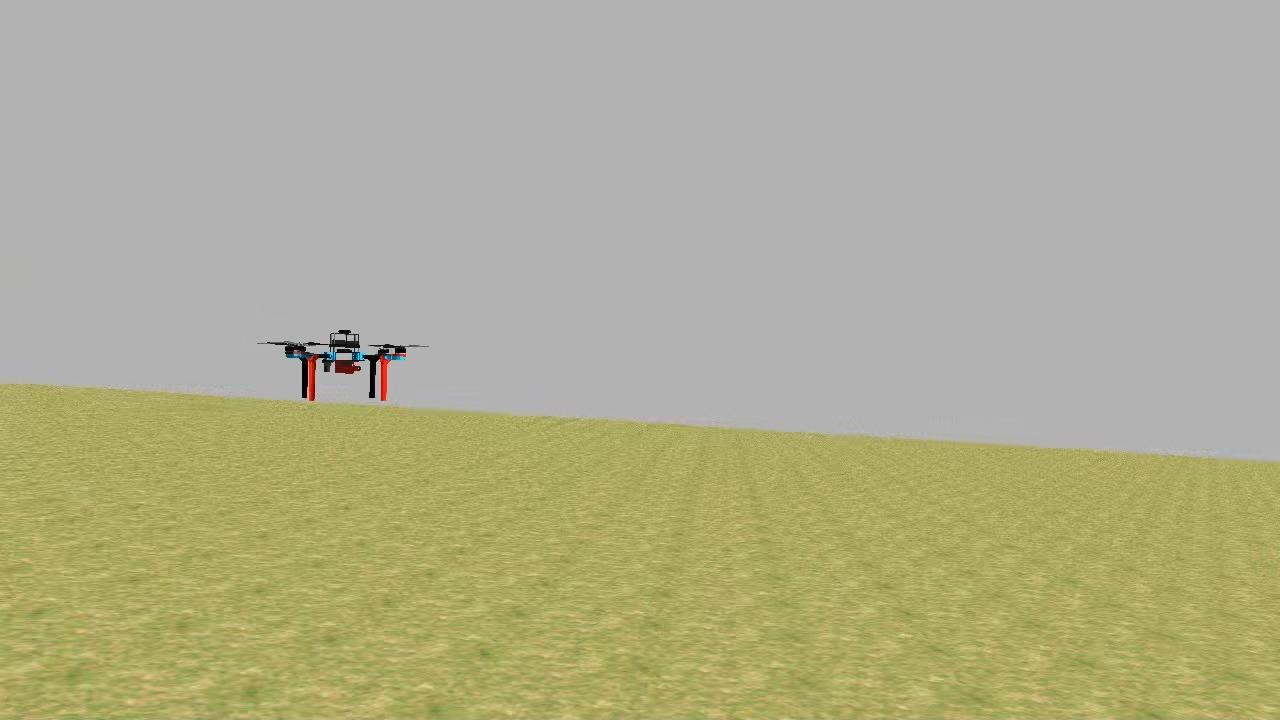UAV: (282, 324, 412, 408)
